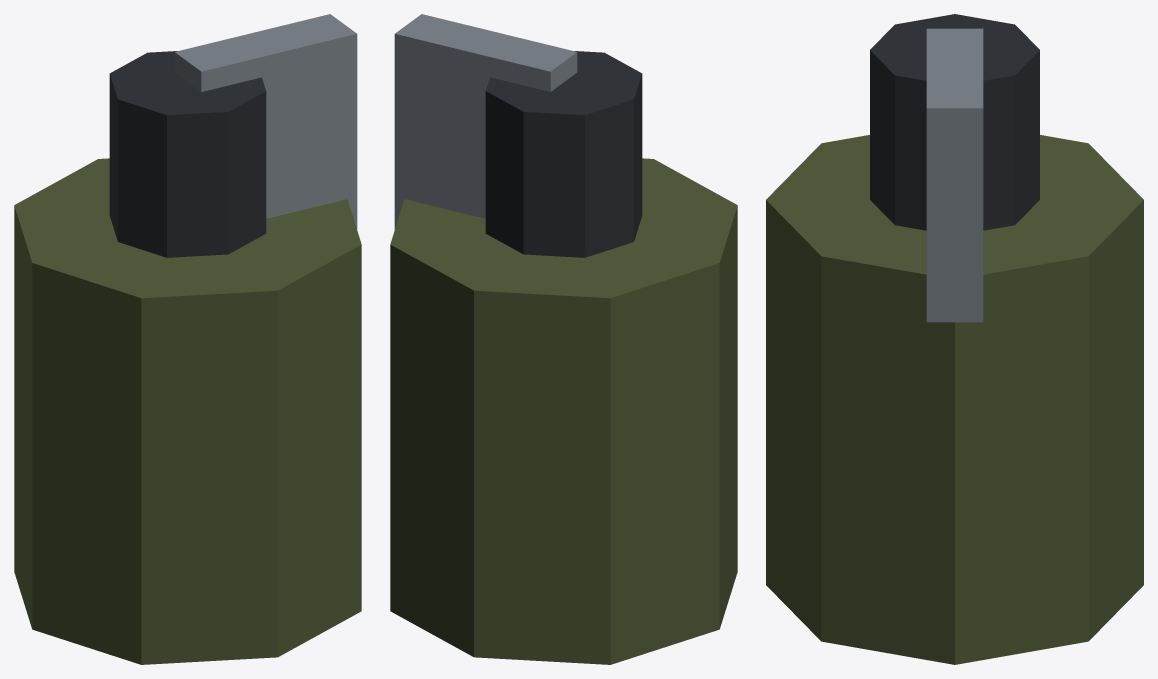
Rendered from grenade.glb.
3 views of the same model, side by side, from view 1: azimuth 30°, elevation 25°; view 2: azimuth 150°, elevation 25°; view 3: azimuth 270°, elevation 25° (orthographic). The views are drawn at different scales.
Parts seen in each view (by area): view 1: grenade_Body; view 2: grenade_Body; view 3: grenade_Body.
Part boxes in pixels (x1=…): grenade_Body: x1=14, y1=14, x2=361, y2=664; grenade_Body: x1=390, y1=14, x2=737, y2=664; grenade_Body: x1=766, y1=14, x2=1143, y2=664.
Bounding box in the file's own units: 0.08 × 0.13 × 0.08.
